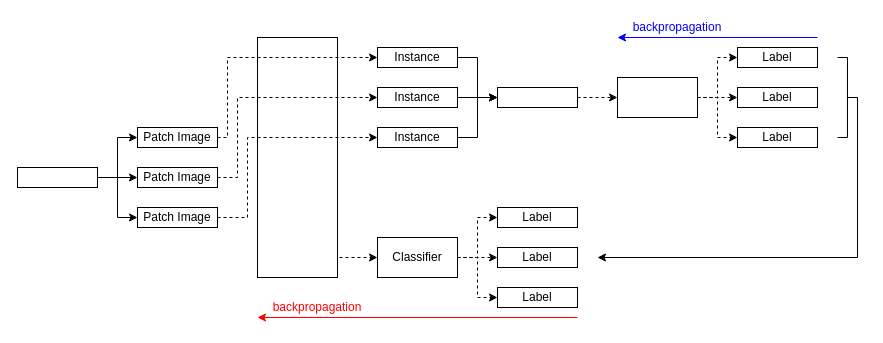
The diagram is 883 pixels wide and 343 high, and some of its shapes have lost their labels. The centre of each missing label's shape, as x and y in pixels:
DSMIL: point (657, 97)
Efficient net: point (297, 157)
Instance Pack: point (537, 97)
WSI: point (57, 177)
